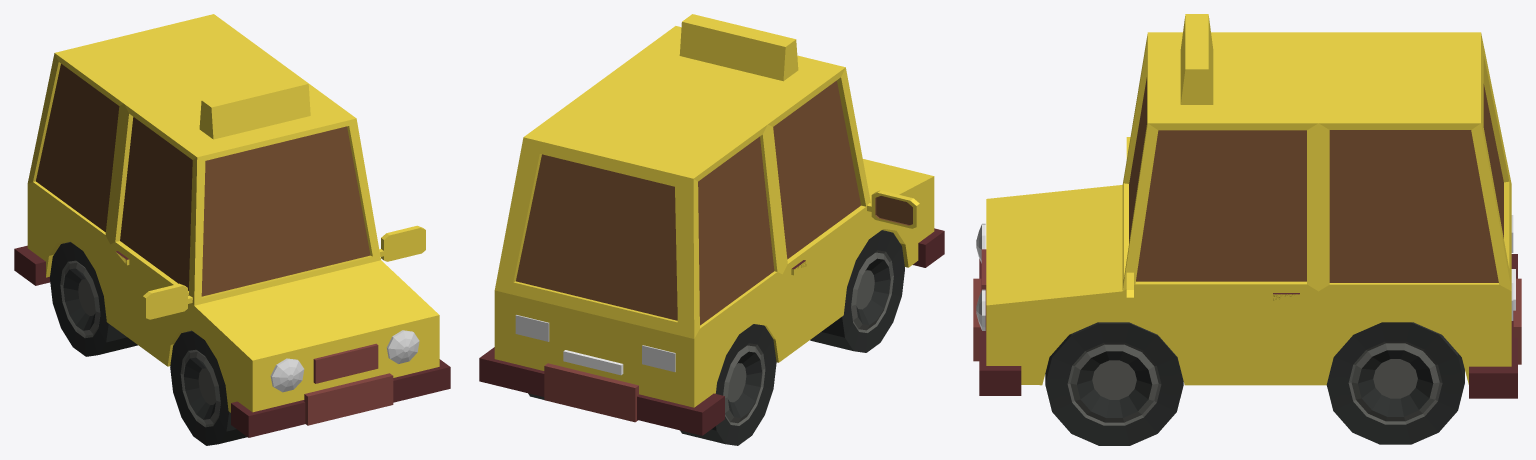
The model's file is mobil kuning.fbx.
3 renders of one model, left to right at view 1: azimuth 30°, elevation 25°; view 2: azimuth 150°, elevation 25°; view 3: azimuth 270°, elevation 25°, orthographic. The views are drawn at different scales.
Parts seen in each view (by area): view 1: lampu merah belakang.002; view 2: lampu merah belakang.002; view 3: lampu merah belakang.002.
Boxes of the visible parts, bbox=[...] form: lampu merah belakang.002: bbox=[14, 14, 450, 445]; lampu merah belakang.002: bbox=[479, 14, 944, 445]; lampu merah belakang.002: bbox=[973, 14, 1521, 445].
Size of the model in its own units: 1397 by 1435 by 2028.
3 materials, 1 textured.
